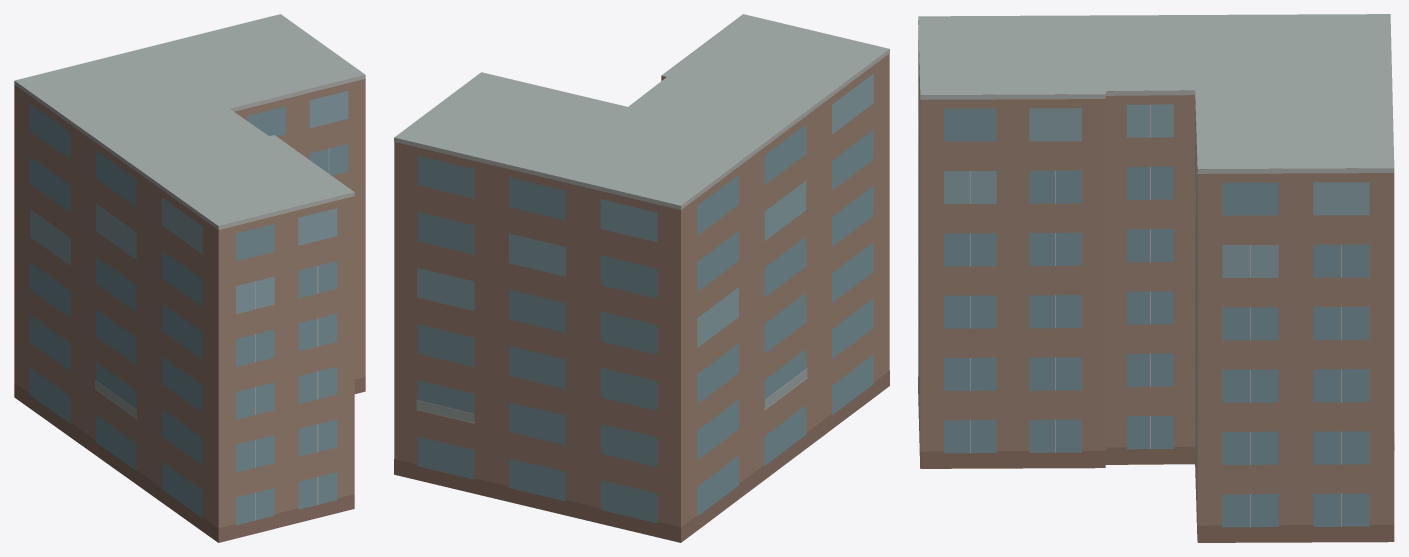
The model's file is survey-upis-32962017.glb.
3 views of the same model, side by side, from view 1: azimuth 30°, elevation 25°; view 2: azimuth 150°, elevation 25°; view 3: azimuth 270°, elevation 25° (orthographic). The views are drawn at different scales.
Visible parts, largest first — view 1: survey-upis-32962017.tmp; view 2: survey-upis-32962017.tmp; view 3: survey-upis-32962017.tmp.
Part boxes in pixels (<box>): survey-upis-32962017.tmp: <box>14,14,365,542</box>; survey-upis-32962017.tmp: <box>394,14,889,542</box>; survey-upis-32962017.tmp: <box>918,14,1394,542</box>.
Size of the model in its own units: 17.1 by 19.2 by 22.2.
